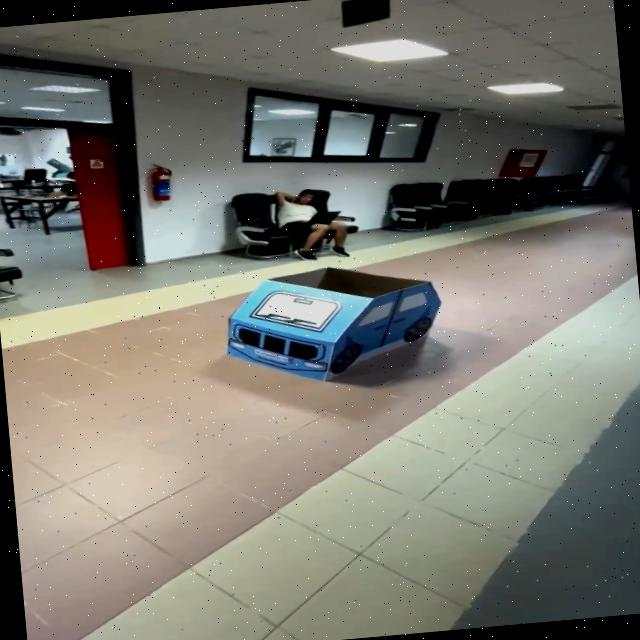blue_car: (209, 250, 465, 408)
